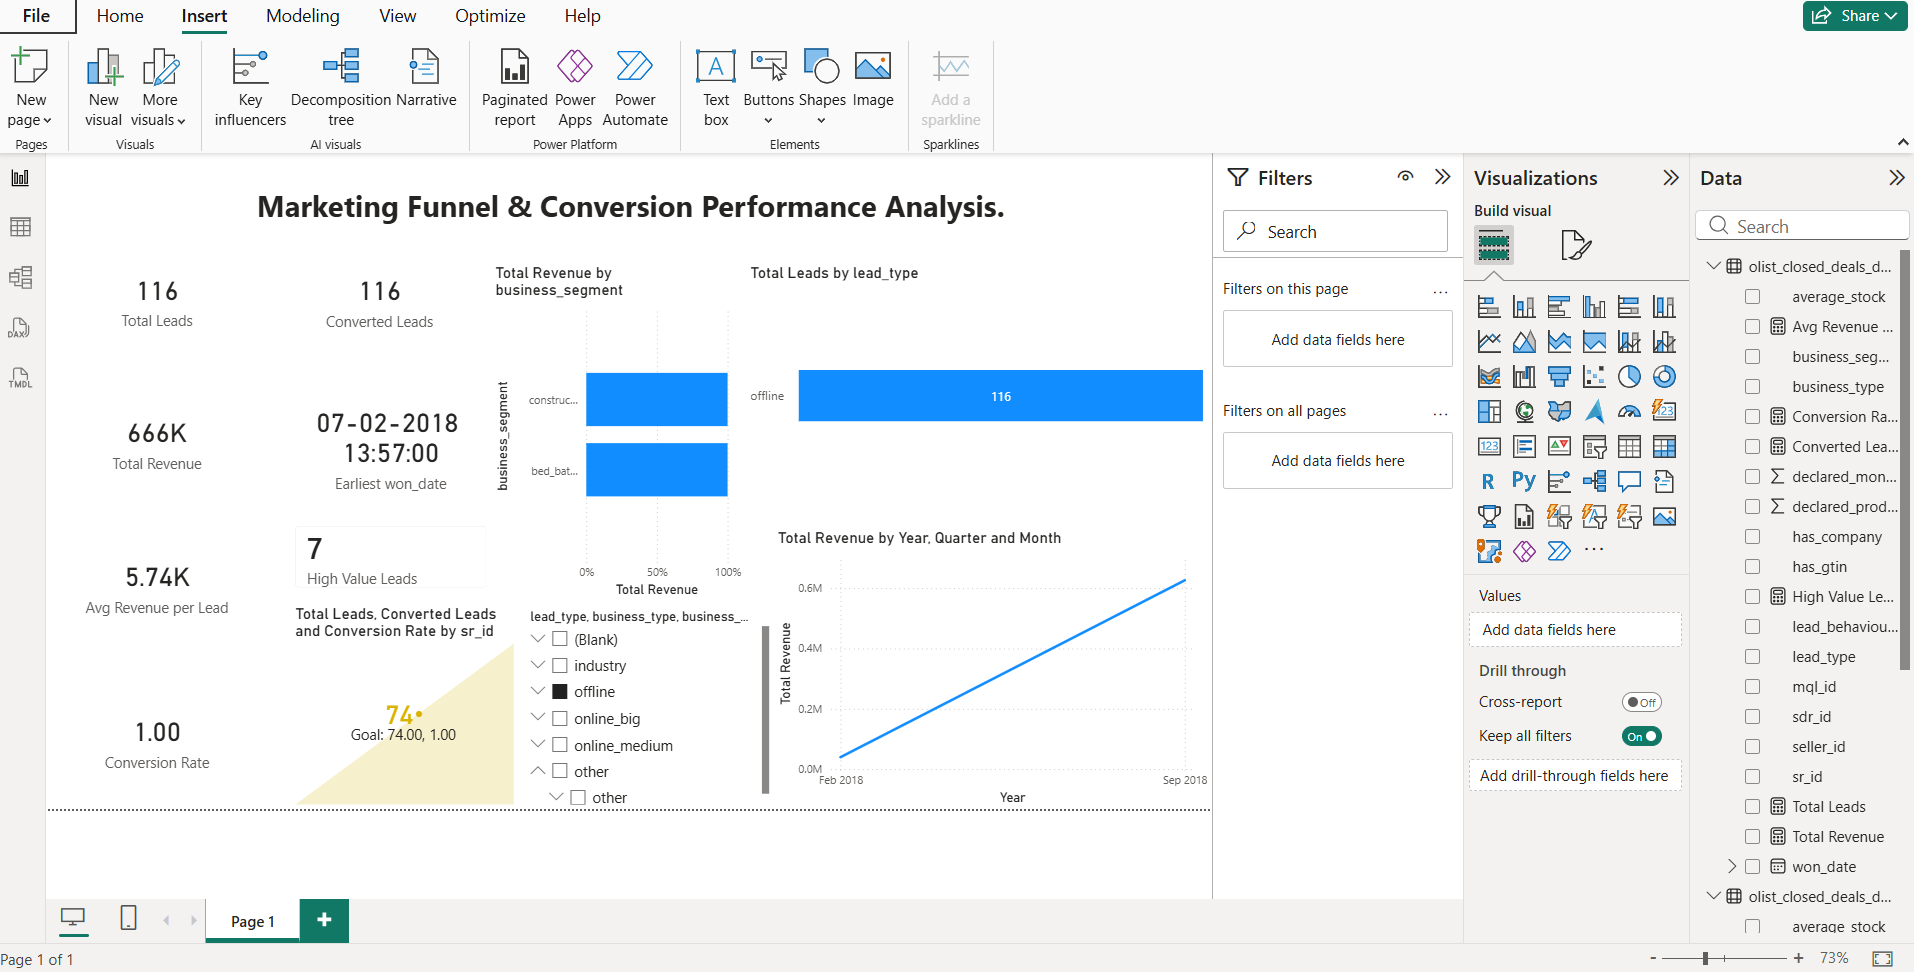

The dashboard page shown, as its layout file describes it:
{"tool":"powerbi","page":{"name":"Page 1","canvas":[1280,720],"ordinal":0},"visuals":[{"type":"kpi","fields":{"Indicator":["olist_closed_deals_dataset.Total Leads"],"Goal":["olist_closed_deals_dataset.Converted Leads","olist_closed_deals_dataset.Conversion Rate"],"TrendLine":["olist_closed_deals_dataset.sr_id"]},"box":[269,495.4,249.7,225],"z":0},{"type":"funnel","fields":{"Category":["olist_closed_deals_dataset.lead_type"],"Y":["olist_closed_deals_dataset.Total Leads"]},"box":[768.4,120.8,511.8,271.7],"z":1000},{"type":"hundredPercentStackedBarChart","fields":{"Category":["olist_closed_deals_dataset.business_segment"],"Y":["olist_closed_deals_dataset.Total Revenue"]},"box":[488.5,120.8,279.9,371.9],"z":2000},{"type":"lineChart","fields":{"Y":["olist_closed_deals_dataset.Total Revenue"],"Category":["olist_closed_deals_dataset.won_date.Variation.Date Hierarchy.Year","olist_closed_deals_dataset.won_date.Variation.Date Hierarchy.Quarter","olist_closed_deals_dataset.won_date.Variation.Date Hierarchy.Month","olist_closed_deals_dataset.won_date.Variation.Date Hierarchy.Day"]},"box":[798.6,411.7,481.6,308.7],"z":3000},{"type":"slicer","fields":{"Values":["olist_closed_deals_dataset.lead_type","olist_closed_deals_dataset.business_type","olist_closed_deals_dataset.business_segment"]},"box":[518.7,495.4,279.9,225],"z":4000},{"type":"cardVisual","fields":{"Data":["olist_closed_deals_dataset.High Value Leads"]},"box":[256.6,392.5,244.3,102.9],"z":5000},{"type":"card","fields":{"Values":["olist_closed_deals_dataset.Total Leads"]},"box":[0,79.6,244.3,160.5],"z":6000},{"type":"card","fields":{"Values":["olist_closed_deals_dataset.Total Revenue"]},"box":[0,240.1,244.3,152.3],"z":7000},{"type":"card","fields":{"Values":["olist_closed_deals_dataset.Avg Revenue per Lead"]},"box":[0,392.5,244.3,163.3],"z":8000},{"type":"card","fields":{"Values":["olist_closed_deals_dataset.Conversion Rate"]},"box":[0,568.1,244.3,152.3],"z":9000},{"type":"card","fields":{"Values":["olist_closed_deals_dataset.Converted Leads"]},"box":[244.3,79.6,244.3,161.9],"z":10000},{"type":"card","fields":{"Values":["Min(olist_closed_deals_dataset.won_date)"]},"box":[269,241.5,219.6,160.5],"z":12000},{"type":"textbox","box":[226.4,31.6,853.5,60.4],"z":12001}]}

Visuals, with their boxes on the page's 1280x720 design canvas (x1, y1, x2, y2). These are canvas units, not pixel positions in the 1914x972 screenshot, which may show the page scaled, cropped or inside an application window:
kpi - olist_closed_deals_dataset.Total Leads x olist_closed_deals_dataset.Converted Leads: (left=269, top=495, right=519, bottom=720)
funnel - olist_closed_deals_dataset.lead_type x olist_closed_deals_dataset.Total Leads: (left=768, top=121, right=1280, bottom=392)
hundredPercentStackedBarChart - olist_closed_deals_dataset.business_segment x olist_closed_deals_dataset.Total Revenue: (left=488, top=121, right=768, bottom=493)
lineChart - olist_closed_deals_dataset.Total Revenue x olist_closed_deals_dataset.won_date.Variation.Date Hierarchy.Year: (left=799, top=412, right=1280, bottom=720)
slicer - olist_closed_deals_dataset.lead_type x olist_closed_deals_dataset.business_type: (left=519, top=495, right=799, bottom=720)
cardVisual - olist_closed_deals_dataset.High Value Leads: (left=257, top=392, right=501, bottom=495)
card - olist_closed_deals_dataset.Total Leads: (left=0, top=80, right=244, bottom=240)
card - olist_closed_deals_dataset.Total Revenue: (left=0, top=240, right=244, bottom=392)
card - olist_closed_deals_dataset.Avg Revenue per Lead: (left=0, top=392, right=244, bottom=556)
card - olist_closed_deals_dataset.Conversion Rate: (left=0, top=568, right=244, bottom=720)
card - olist_closed_deals_dataset.Converted Leads: (left=244, top=80, right=489, bottom=242)
card - Min(olist_closed_deals_dataset.won_date): (left=269, top=242, right=489, bottom=402)
textbox: (left=226, top=32, right=1080, bottom=92)
